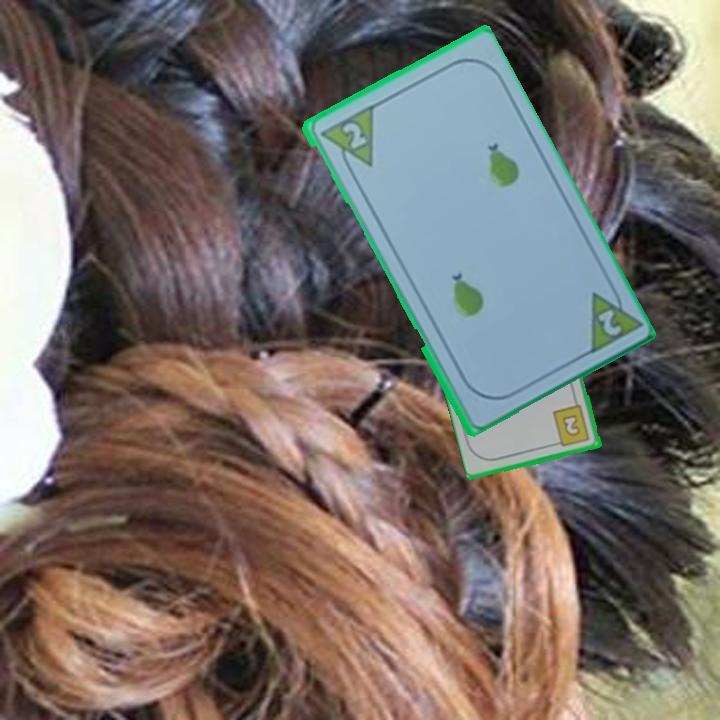2b: (550, 402, 593, 450)
2p: (338, 118, 369, 152), (593, 305, 624, 339)
